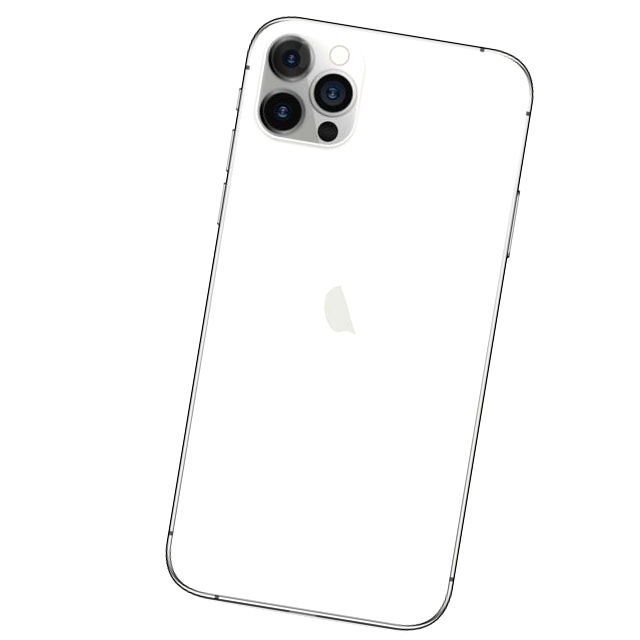iphone_12pro_silver: (167, 4, 534, 633), (242, 26, 376, 159)
